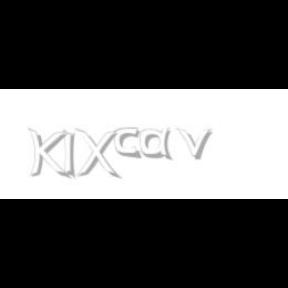I: (64, 128, 76, 180)
K: (28, 128, 68, 180)
X: (74, 128, 118, 180)
a: (140, 128, 177, 160)
c: (114, 128, 142, 160)
v: (176, 128, 216, 160)
